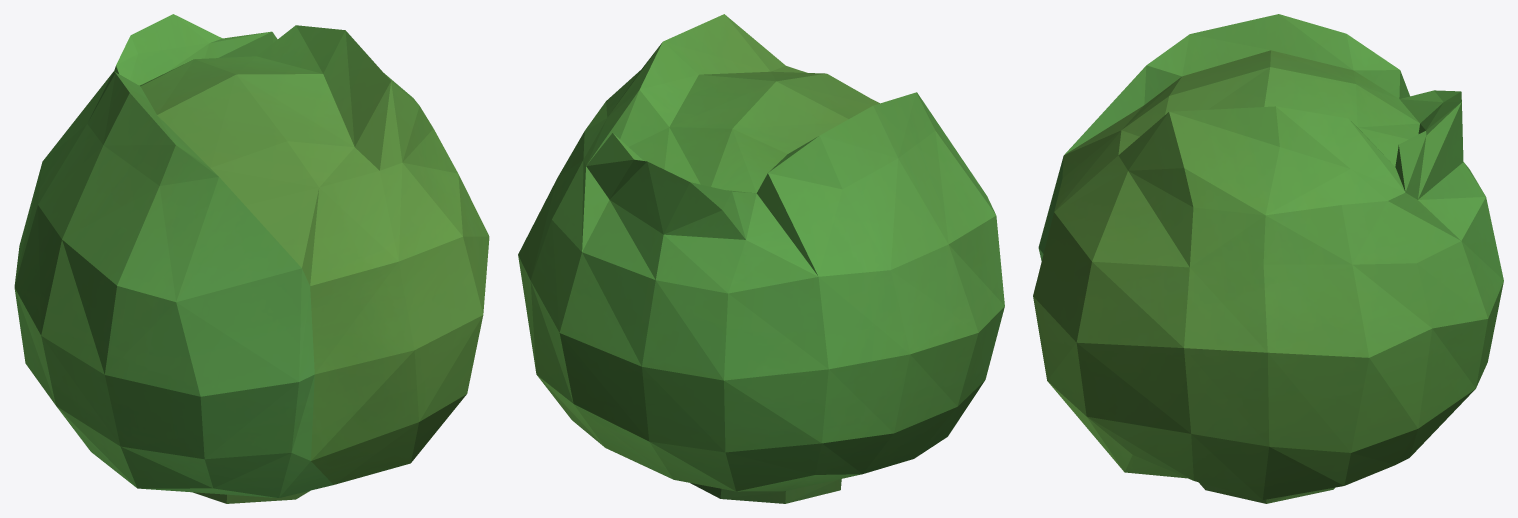
The model's file is food_lettuce.FBX.
3 renders of one model, left to right at view 1: azimuth 30°, elevation 25°; view 2: azimuth 150°, elevation 25°; view 3: azimuth 270°, elevation 25°, orthographic.
Visible parts, largest first — view 1: food_lettuce; view 2: food_lettuce; view 3: food_lettuce.
Part boxes in pixels (box(x1,y1,x2,y2)): food_lettuce: box(14, 14, 489, 503); food_lettuce: box(518, 14, 1004, 503); food_lettuce: box(1033, 14, 1503, 503).
Bounding box in the file's own units: 215 × 204 × 210.
